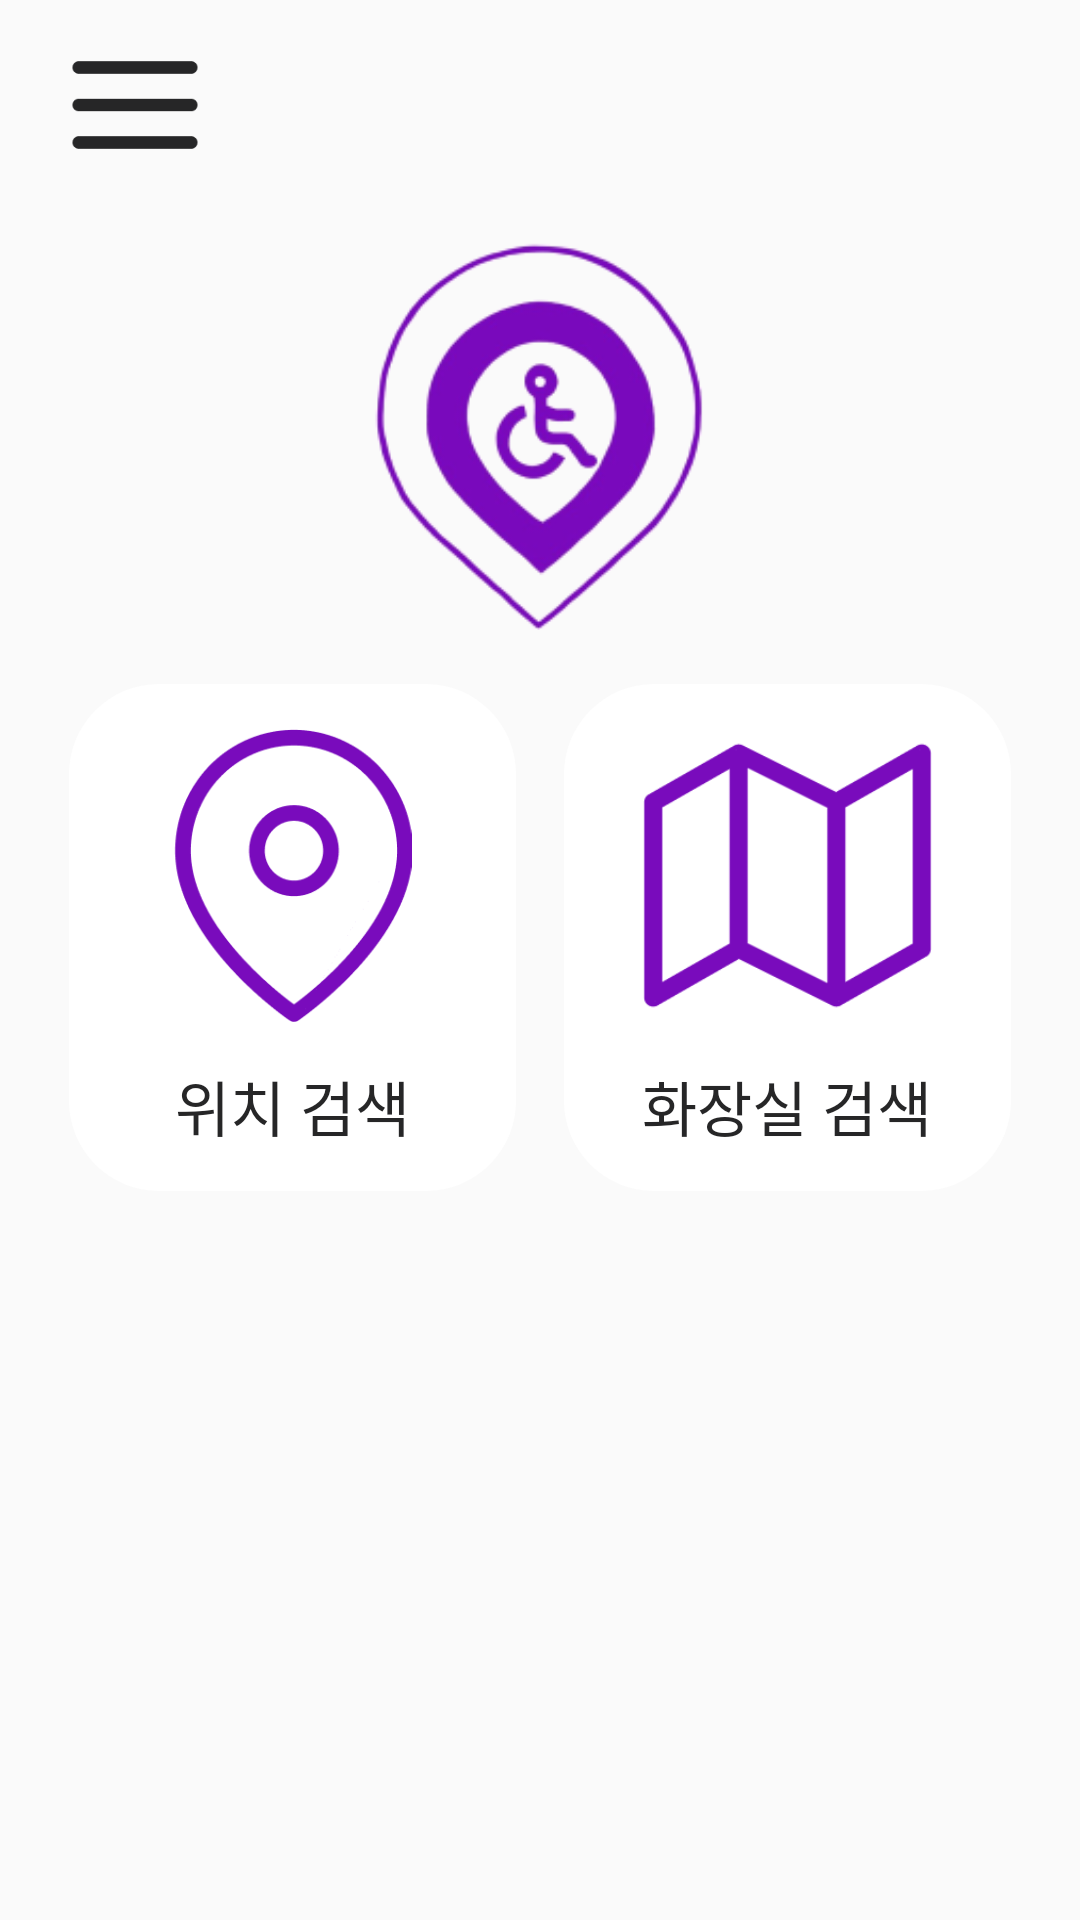

Icon bounding boxes for this 1080*1920 phone screenshot, format (x1=x1, y1=y1, x2=x2, y2=y2):
로그인 로그아웃 서랍 열기 버튼: (x1=72, y1=61, x2=198, y2=149)
